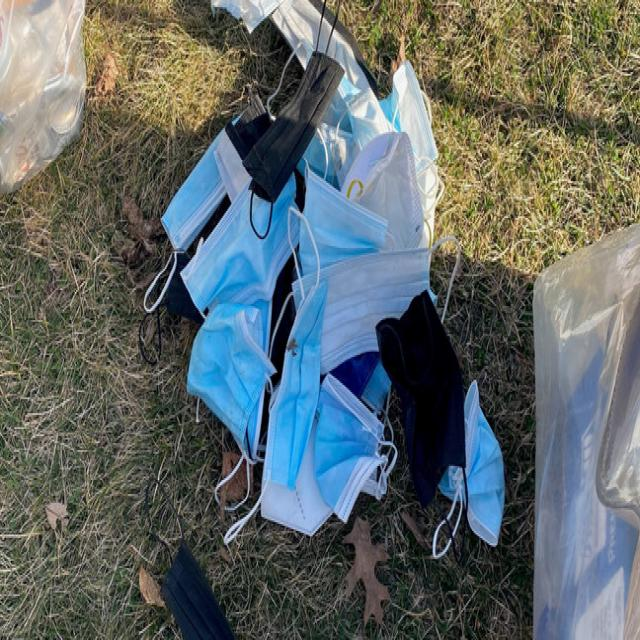non-organic waste: (235, 10, 356, 222), (308, 218, 441, 375), (382, 290, 468, 517), (268, 266, 342, 492), (184, 313, 278, 459), (318, 366, 391, 545), (452, 381, 520, 561), (160, 120, 235, 256)
